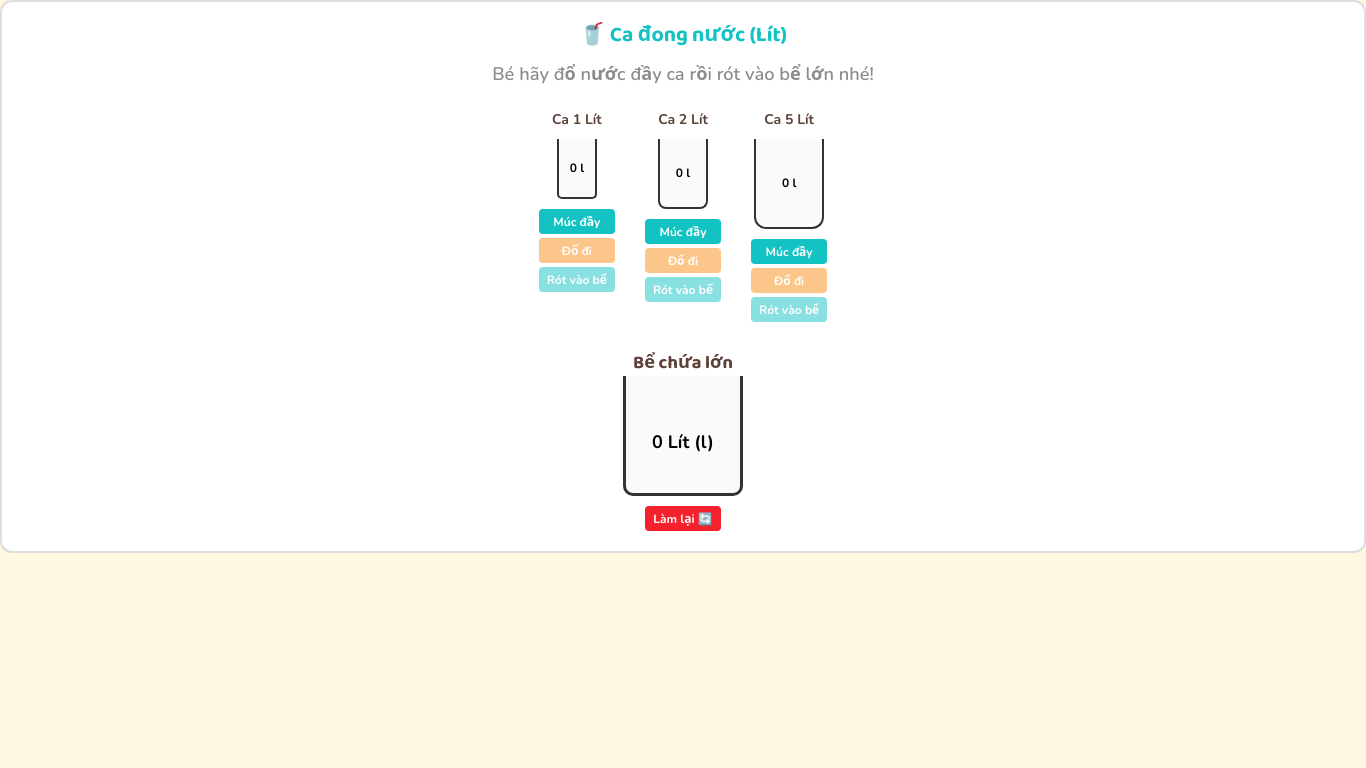
LitreCup visualizer › interacts with cup pouring and resets
Click the button with test id "fill-1l" at (577, 222), box [539, 209, 615, 234]
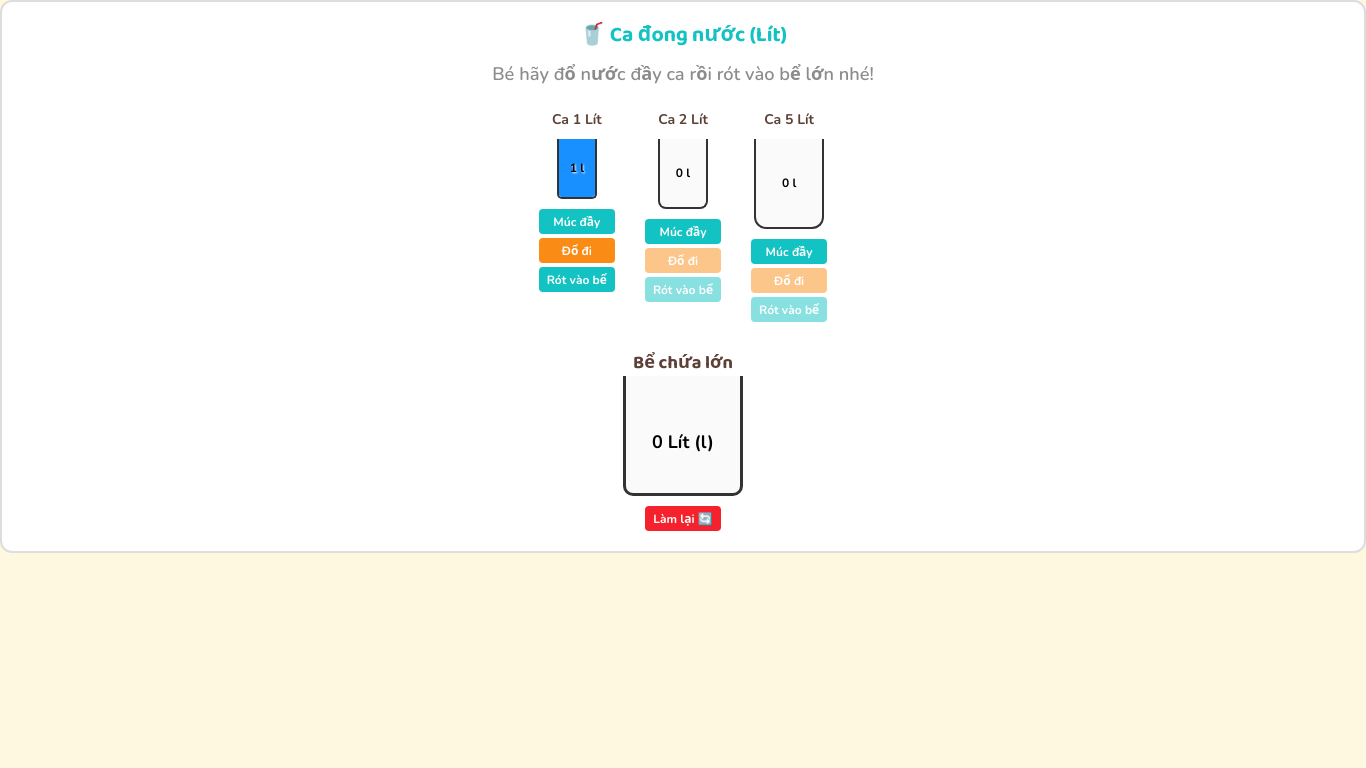
Click the button with test id "pour-1l" at (577, 280), box [539, 267, 615, 292]
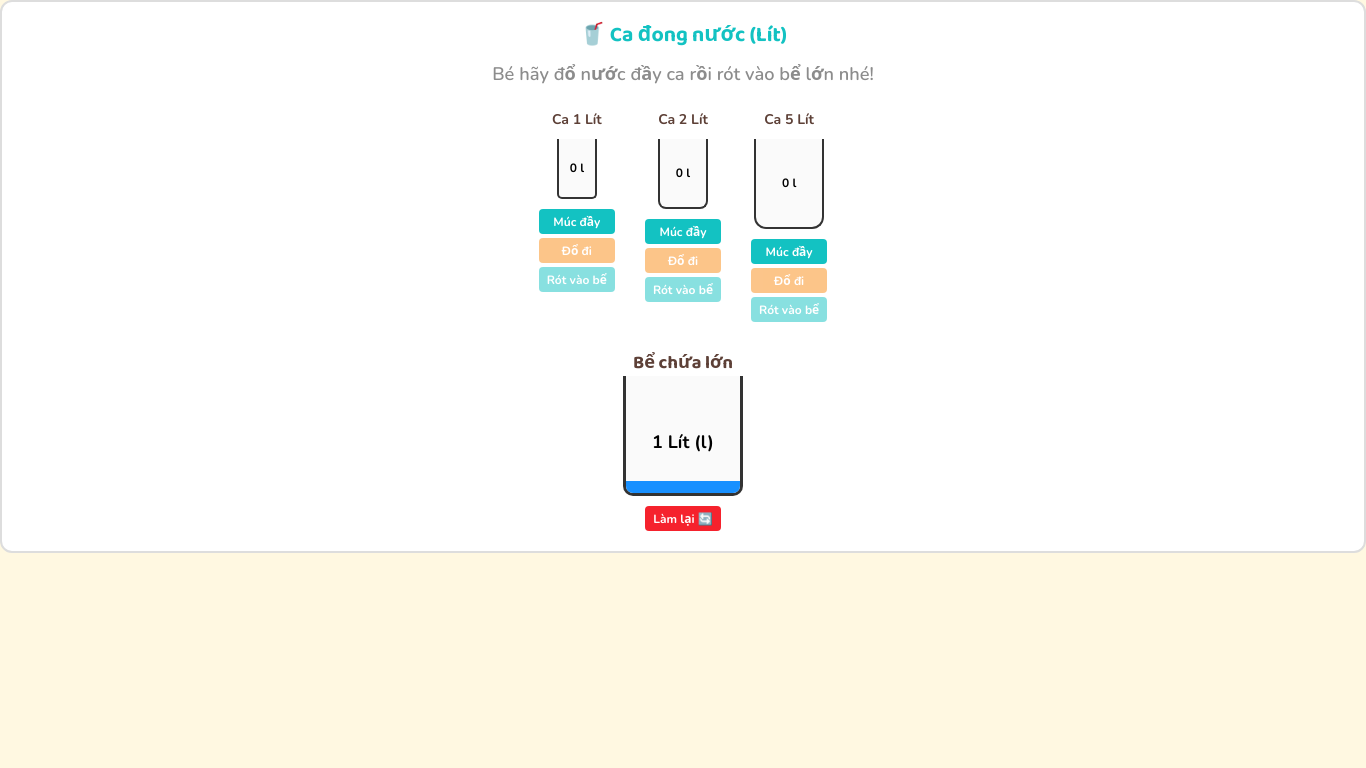
Result: the text with test id "tank-label" reads "1 Lít (l)" at [652, 430, 714, 454]
Click the button with test id "btn-reset" at (683, 518), box [645, 506, 721, 531]
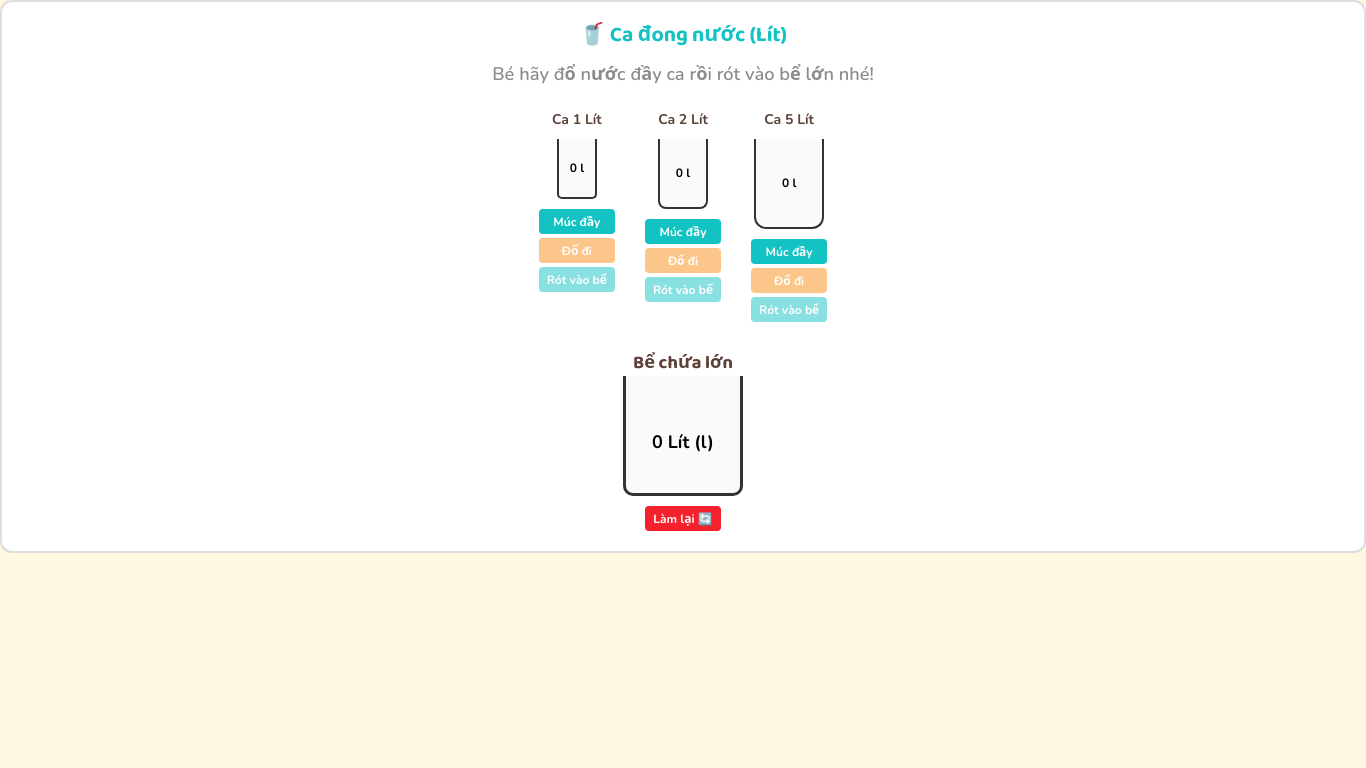
Result: the text with test id "tank-label" reads "0 Lít (l)" at [652, 430, 714, 454]
